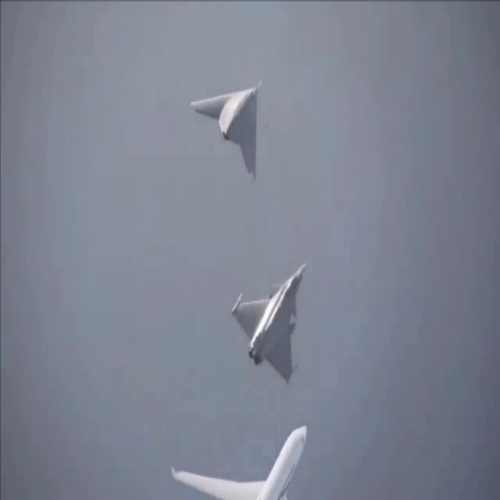uav837: (172, 422, 309, 500), (187, 80, 265, 182)
